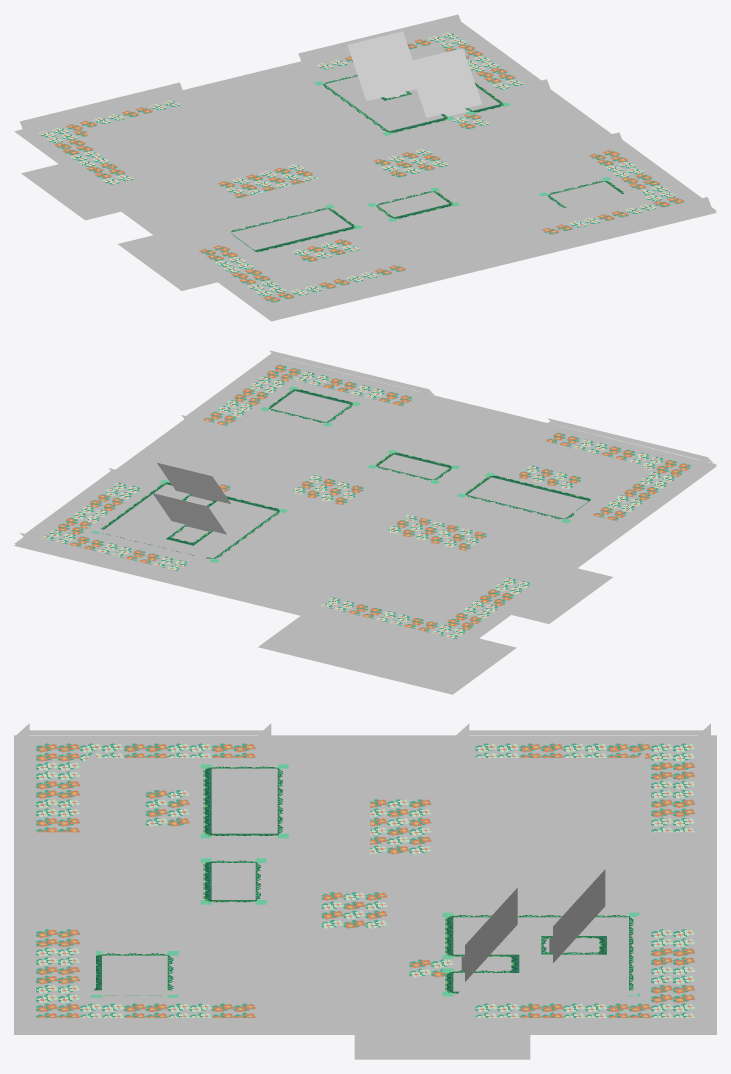
Rendered from Safari Zone_Areas - Meadow.fbx.
3 views of the same model, one above another, from view 1: azimuth 30°, elevation 25°; view 2: azimuth 150°, elevation 25°; view 3: azimuth 270°, elevation 25° (orthographic). The views are drawn at different scales.
Parts seen in each view (by area): view 1: m_saf02_00_00c; view 2: m_saf02_00_00c; view 3: m_saf02_00_00c.
Boxes of the visible parts, left/top/right/bottom form: m_saf02_00_00c: left=14, top=14, right=716, bottom=321; m_saf02_00_00c: left=14, top=350, right=716, bottom=694; m_saf02_00_00c: left=14, top=723, right=716, bottom=1059.
Bounding box in the file's own units: 51200 × 9734 × 51200.
